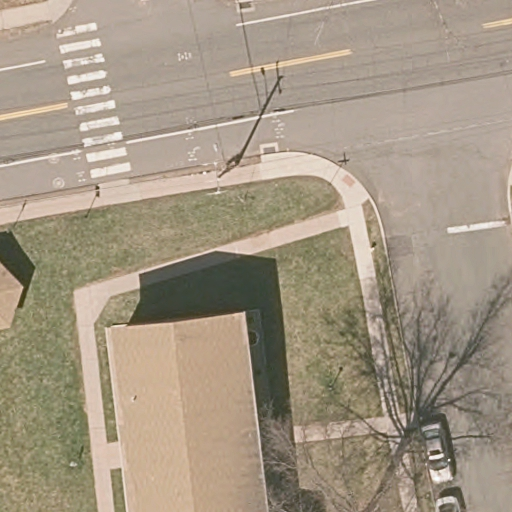DT: (207, 153, 244, 196)
